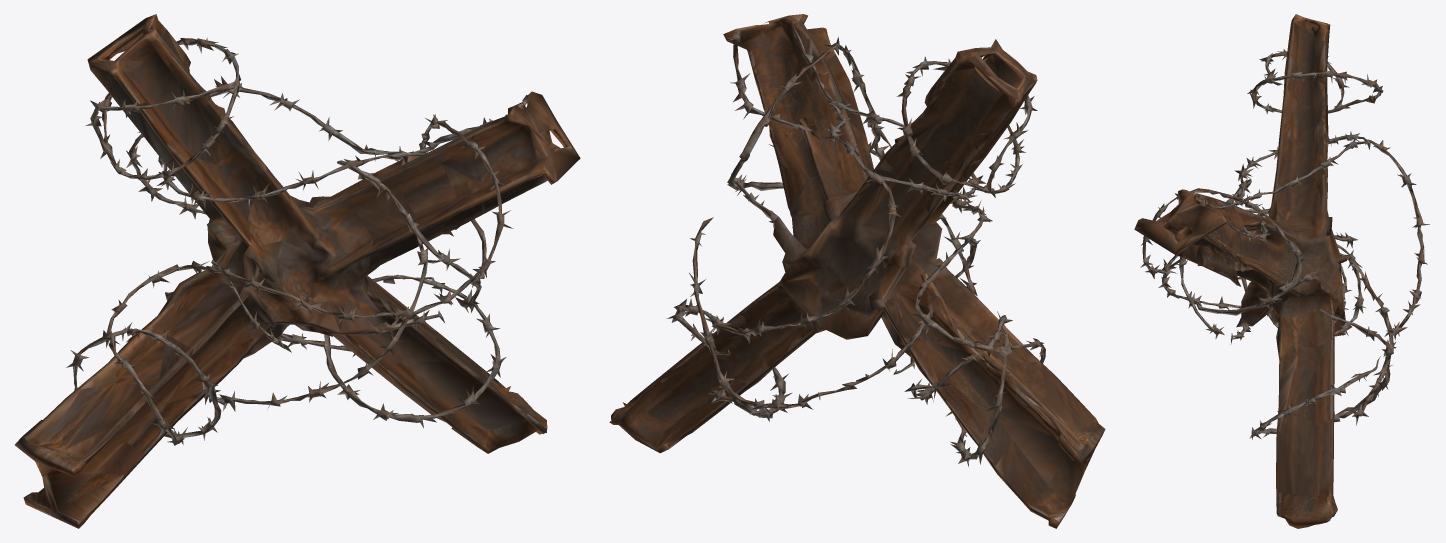
File: hedgehog.glb
The picture shows the model from 3 angles, left to right: view 1: azimuth 30°, elevation 25°; view 2: azimuth 150°, elevation 25°; view 3: azimuth 270°, elevation 25°; orthographic projection. The views are drawn at different scales.
Parts seen in each view (by area): view 1: Mesh_0; view 2: Mesh_0; view 3: Mesh_0.
Part boxes in pixels (x1,y1,x2,y2): Mesh_0: (15,14,580,528); Mesh_0: (609,14,1105,528); Mesh_0: (1134,14,1429,528).
Size of the model in its own units: 1.9 by 1.8 by 1.29.
Materials: 1 (1 with a texture image).
